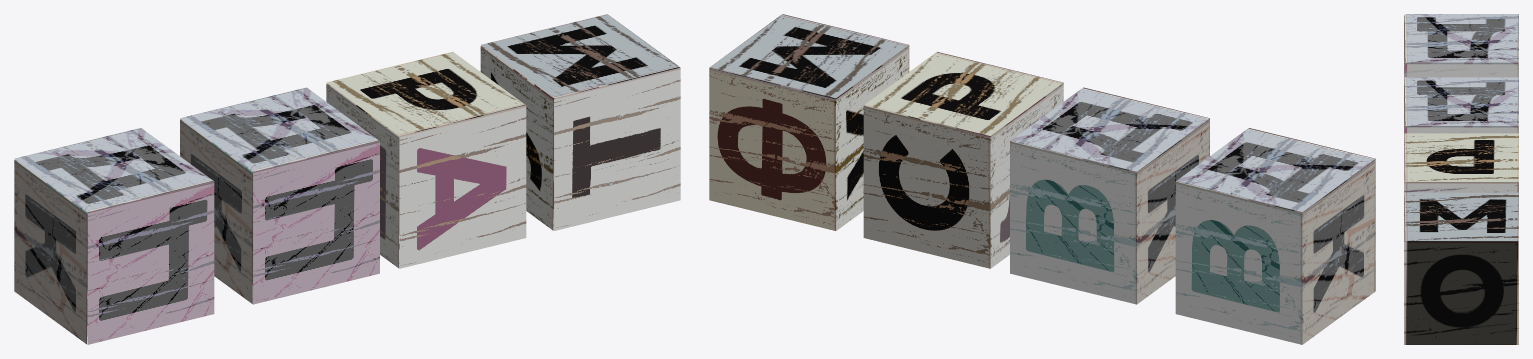
The model's file is ghghghgh.fbx.
The picture shows the model from 3 angles, left to right: view 1: azimuth 30°, elevation 25°; view 2: azimuth 150°, elevation 25°; view 3: azimuth 270°, elevation 25°; orthographic projection. The views are drawn at different scales.
Visible parts, largest first — view 1: Cube.003, Cube.002, Cube.001, Cube; view 2: Cube.003, Cube.002, Cube.001, Cube; view 3: Cube.001, Cube.003, Cube, Cube.002.
Part boxes in pixels (box(x1,y1,x2,y2)): Cube.003: box(14, 128, 214, 344); Cube.002: box(180, 87, 379, 304); Cube.001: box(480, 14, 680, 230); Cube: box(326, 51, 526, 268); Cube.003: box(1175, 128, 1375, 344); Cube.002: box(1010, 87, 1209, 304); Cube.001: box(709, 14, 909, 230); Cube: box(863, 51, 1063, 268); Cube.001: box(1404, 192, 1518, 344); Cube.003: box(1404, 14, 1518, 78); Cube: box(1404, 133, 1518, 193); Cube.002: box(1404, 77, 1518, 134).
Bounding box in the file's own units: 936 × 200 × 200.
3 materials, 3 textured.
